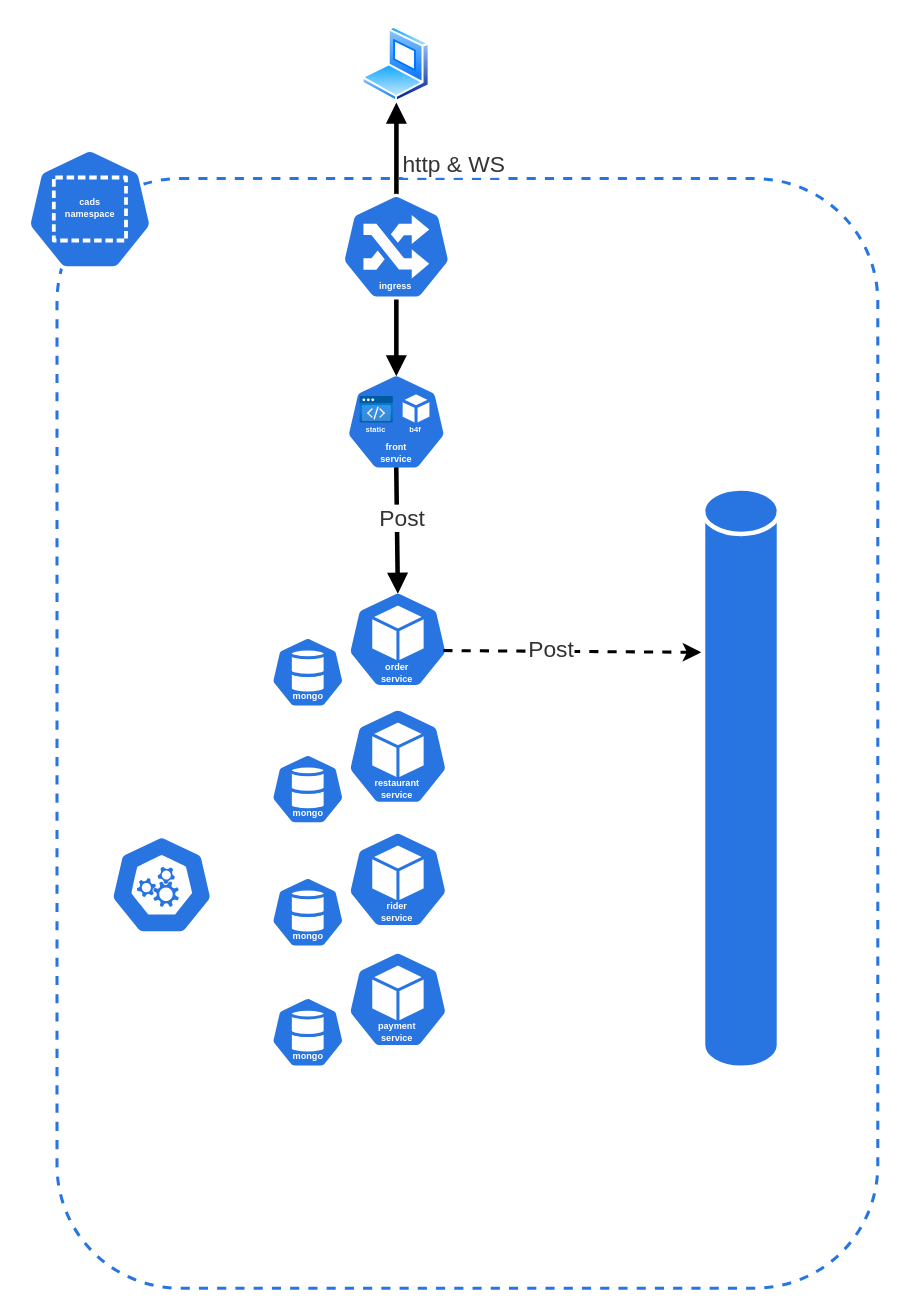
This 906x1315 diagram has some shape labels left out. The centre of each missing label's shape, as x and y in pixels:
"externals" goes at pixel 161 884.
"kafka" goes at pixel 740 777.
